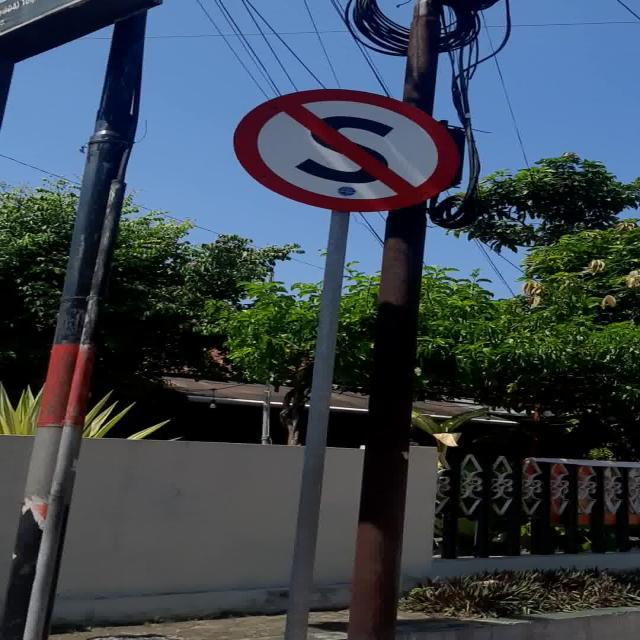Dilarang Berhenti: (234, 89, 461, 212)
